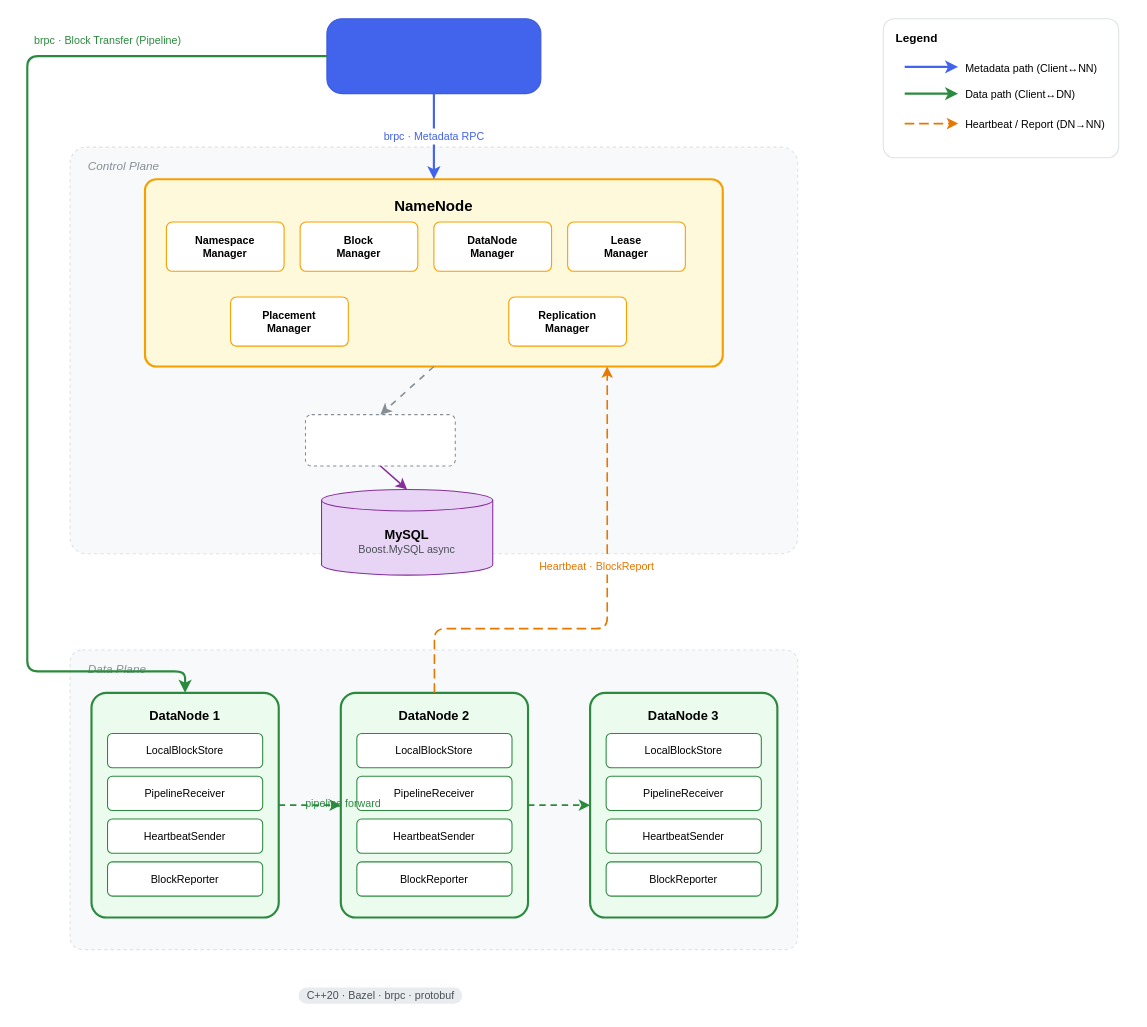
Some shapes in this 1147 by 1027 pixel diagram are drawn without their labels. Here are the shapes that lost their labels. From the top down, the centre of each, then its label:
At pixel 433 56: "Client CLI · SDK · Library".
At pixel 379 440: "«interface» MetadataStore".
